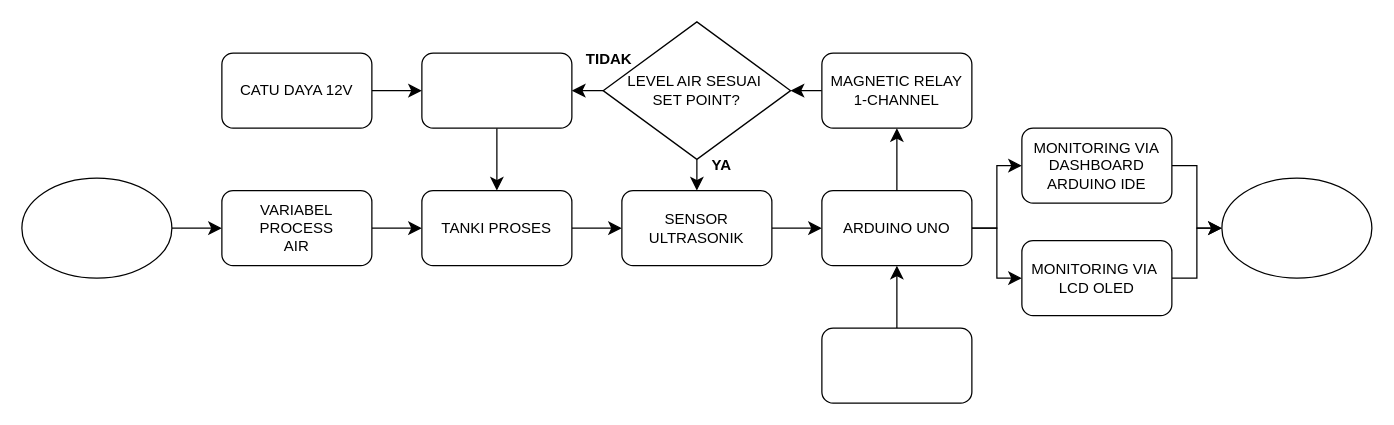
Image size: 1394x425. Some labels were removed from this diagram. Each missing label, with the centre of its shape:
"CATU DAYA 5V" goes at pixel 896 365.
"END" goes at pixel 1296 227.
"POMPA DC" goes at pixel 496 90.
"START" goes at pixel 96 227.
